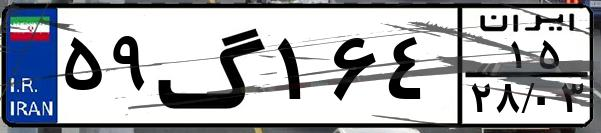0: (535, 70, 560, 125)
1: (270, 28, 330, 110), (508, 27, 537, 80)
2: (470, 70, 495, 125)
3: (560, 70, 590, 125)
4: (385, 28, 445, 110)
5: (57, 26, 110, 100), (537, 27, 568, 80)
6: (330, 28, 385, 110)
8: (495, 70, 520, 125)
9: (110, 28, 156, 98)
گ: (156, 12, 270, 120)
